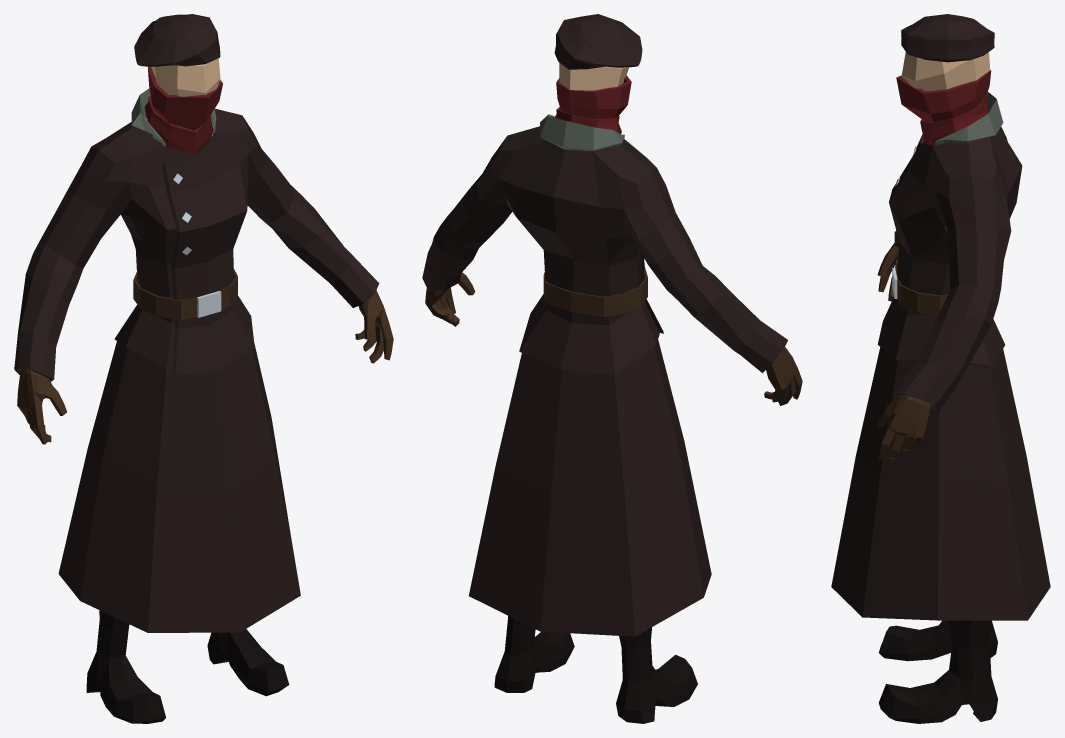
Rendered from Revo_wman.fbx.
3 renders of one model, left to right at view 1: azimuth 30°, elevation 25°; view 2: azimuth 150°, elevation 25°; view 3: azimuth 270°, elevation 25°, orthographic.
Visible parts, largest first — view 1: Skirt.002, Gabardina.003, Boots.004, Hat.003, Hands.003, Belt.009, Neck.004, Body.011, Neck.005, Neck.006; view 2: Skirt.002, Gabardina.003, Boots.004, Hat.003, Hands.003, Belt.009, Neck.004, Neck.006, Body.011, Neck.005; view 3: Skirt.002, Gabardina.003, Boots.004, Hat.003, Hands.003, Neck.004, Body.011, Neck.006, Neck.005, Belt.009.
Boxes of the visible parts, left/top/right/bottom form: Skirt.002: left=58, top=341, right=300, bottom=632; Gabardina.003: left=14, top=108, right=379, bottom=381; Boots.004: left=86, top=610, right=289, bottom=723; Hat.003: left=134, top=14, right=220, bottom=66; Hands.003: left=17, top=290, right=393, bottom=444; Belt.009: left=133, top=268, right=237, bottom=320; Neck.004: left=148, top=66, right=222, bottom=130; Body.011: left=145, top=58, right=220, bottom=136; Neck.005: left=144, top=96, right=213, bottom=154; Neck.006: left=131, top=88, right=216, bottom=146; Skirt.002: left=469, top=339, right=711, bottom=636; Gabardina.003: left=422, top=126, right=787, bottom=375; Boots.004: left=494, top=616, right=697, bottom=723; Hat.003: left=554, top=14, right=642, bottom=69; Hands.003: left=425, top=272, right=802, bottom=405; Belt.009: left=543, top=267, right=647, bottom=316; Neck.004: left=556, top=75, right=631, bottom=118; Neck.006: left=540, top=114, right=624, bottom=151; Body.011: left=559, top=63, right=628, bottom=90; Neck.005: left=555, top=107, right=621, bottom=133; Skirt.002: left=831, top=347, right=1050, bottom=620; Gabardina.003: left=877, top=126, right=1022, bottom=411; Boots.004: left=878, top=620, right=997, bottom=723; Hat.003: left=901, top=14, right=994, bottom=62; Hands.003: left=877, top=243, right=930, bottom=460; Neck.004: left=896, top=70, right=991, bottom=122; Body.011: left=901, top=52, right=990, bottom=91; Neck.006: left=935, top=92, right=1003, bottom=145; Neck.005: left=920, top=96, right=988, bottom=145; Belt.009: left=892, top=260, right=947, bottom=315.
Size of the model in its own units: 265 by 472 by 141.
